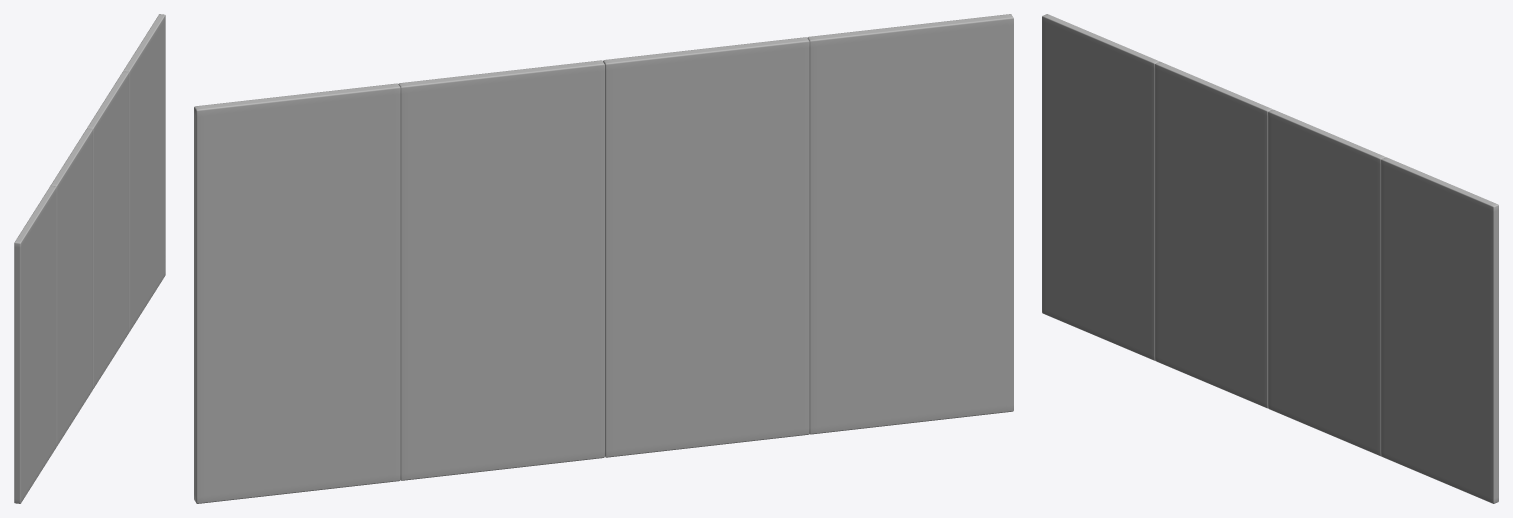
File: tvtable_0304_door.glb
3 views of the same model, side by side, from view 1: azimuth 30°, elevation 25°; view 2: azimuth 150°, elevation 25°; view 3: azimuth 270°, elevation 25° (orthographic). The views are drawn at different scales.
Visible parts, largest first — view 1: tvtable_0304_door; view 2: tvtable_0304_door; view 3: tvtable_0304_door.
Boxes of the visible parts, box(x1,y1,x2,y2) form: tvtable_0304_door: box(14, 14, 165, 503); tvtable_0304_door: box(194, 14, 1013, 503); tvtable_0304_door: box(1042, 14, 1498, 503).
Size of the model in its own units: 1.14 by 0.8216 by 1.14.
Materials: 1 (1 with a texture image).
